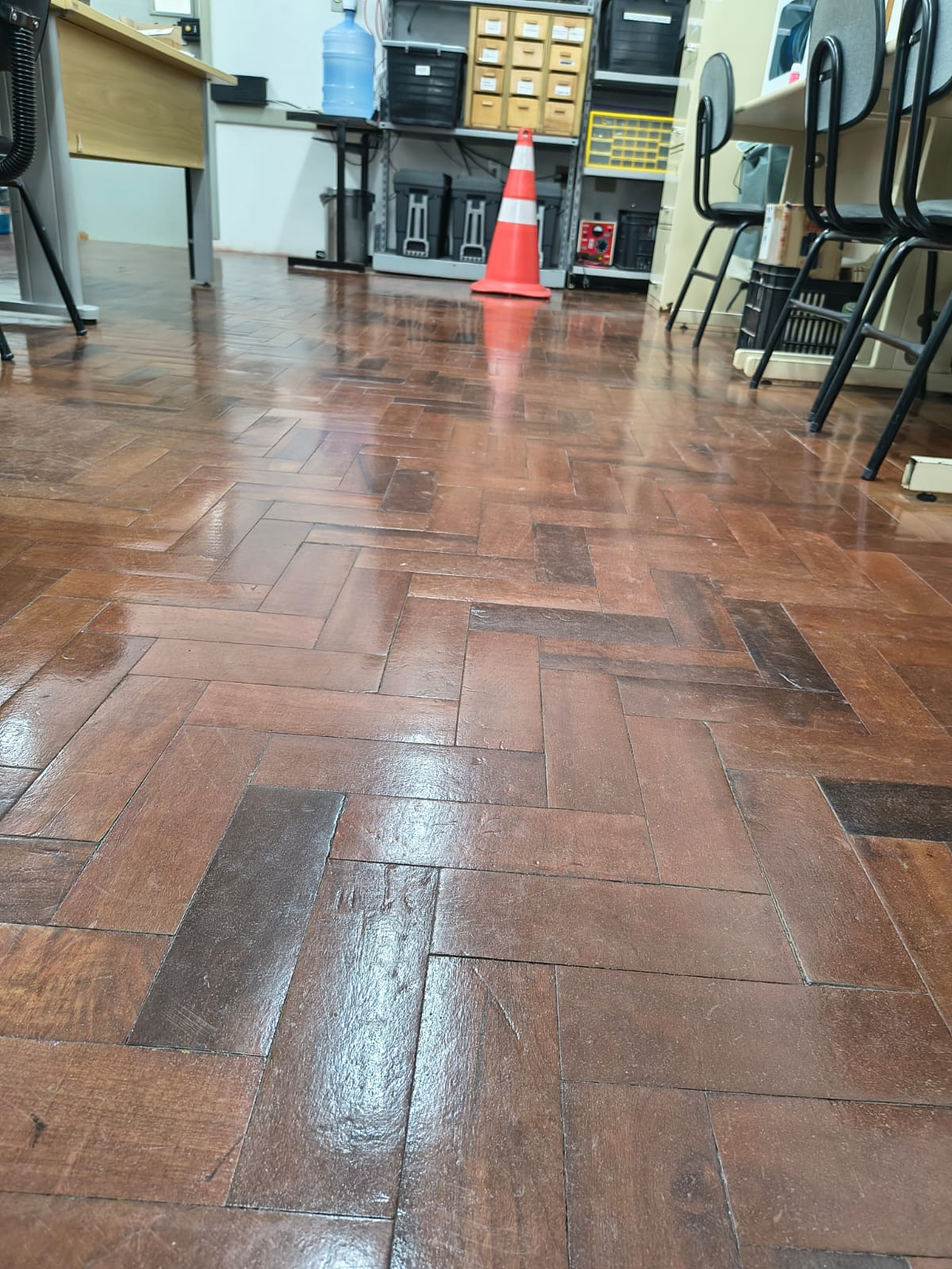cone: (471, 122, 559, 305)
